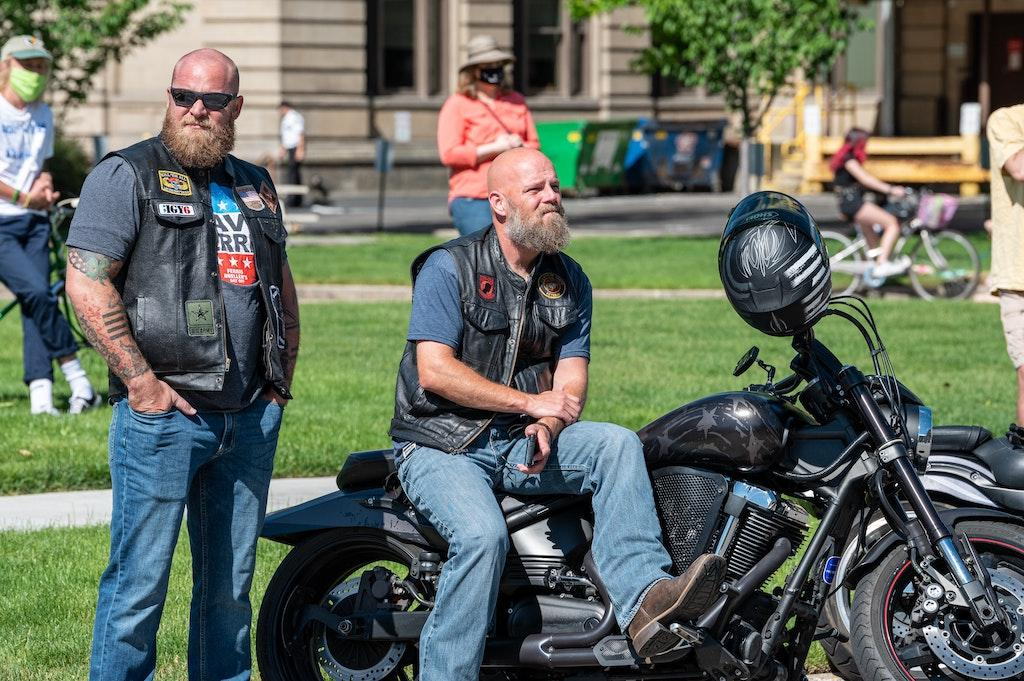helmet: (718, 189, 834, 338)
nohelmet: (160, 46, 244, 171), (486, 145, 573, 258)
